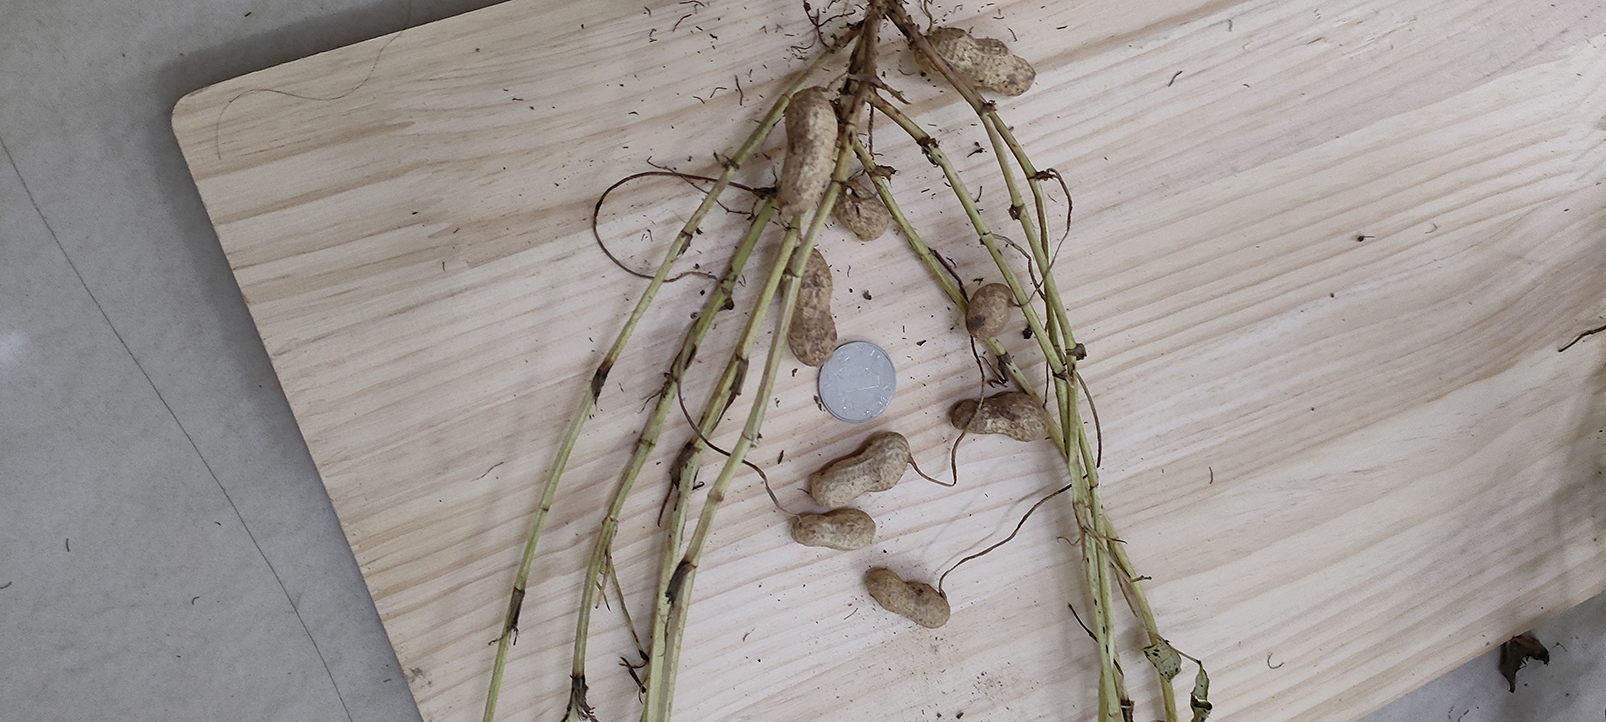h: (808, 432, 910, 507), (778, 88, 838, 215), (924, 28, 1036, 91), (787, 246, 838, 367), (867, 567, 950, 628), (790, 505, 877, 553), (965, 283, 1013, 342), (843, 181, 890, 240)
l: (950, 391, 1052, 443)
